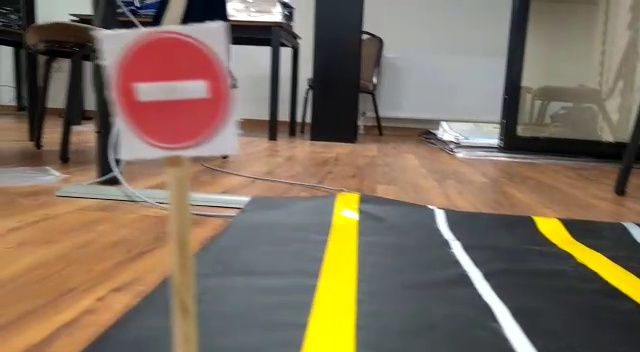girisi_olmayan_yol: (107, 28, 236, 150)
